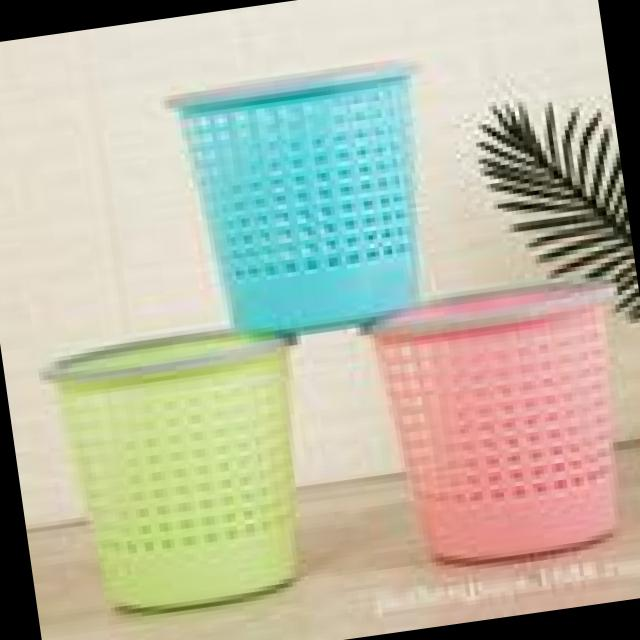dustbin: (38, 314, 338, 630), (342, 266, 640, 580), (154, 44, 455, 349)
